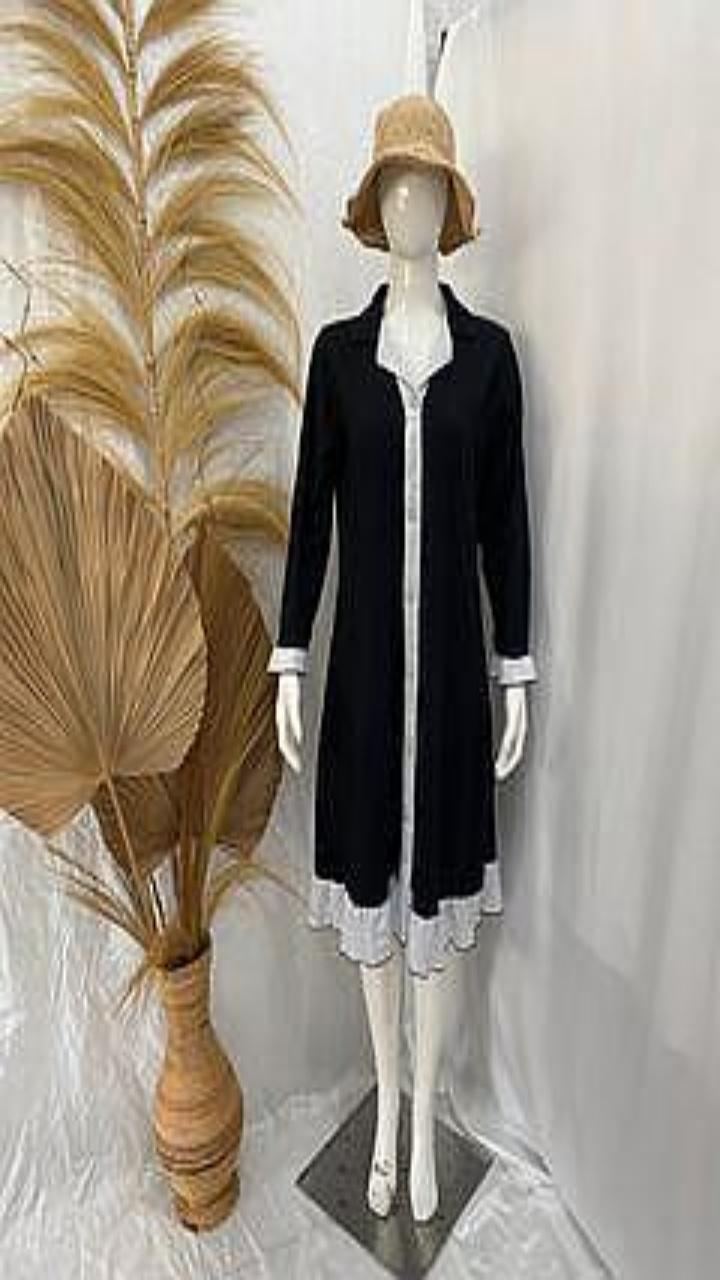Coat: (269, 283, 534, 970)
